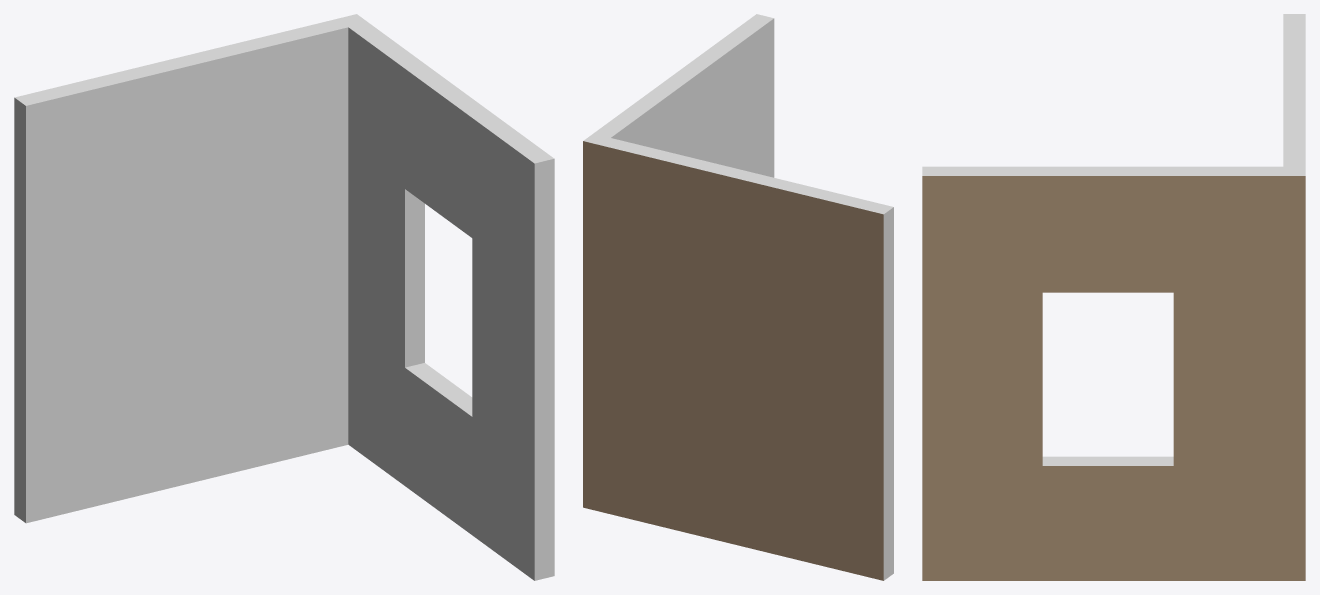
File: Wall2_C2_08.fbx
The picture shows the model from 3 angles, left to right: view 1: azimuth 30°, elevation 25°; view 2: azimuth 150°, elevation 25°; view 3: azimuth 270°, elevation 25°; orthographic projection. The views are drawn at different scales.
Parts seen in each view (by area): view 1: Wall2_C2_08; view 2: Wall2_C2_08; view 3: Wall2_C2_08.
Part boxes in pixels (x1,y1,x2,y2): Wall2_C2_08: [14, 14, 554, 580]; Wall2_C2_08: [583, 14, 893, 580]; Wall2_C2_08: [922, 14, 1305, 580].
Size of the model in its own units: 258 by 300 by 258.
